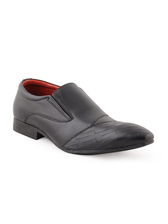shoes: (6, 75, 160, 151)
